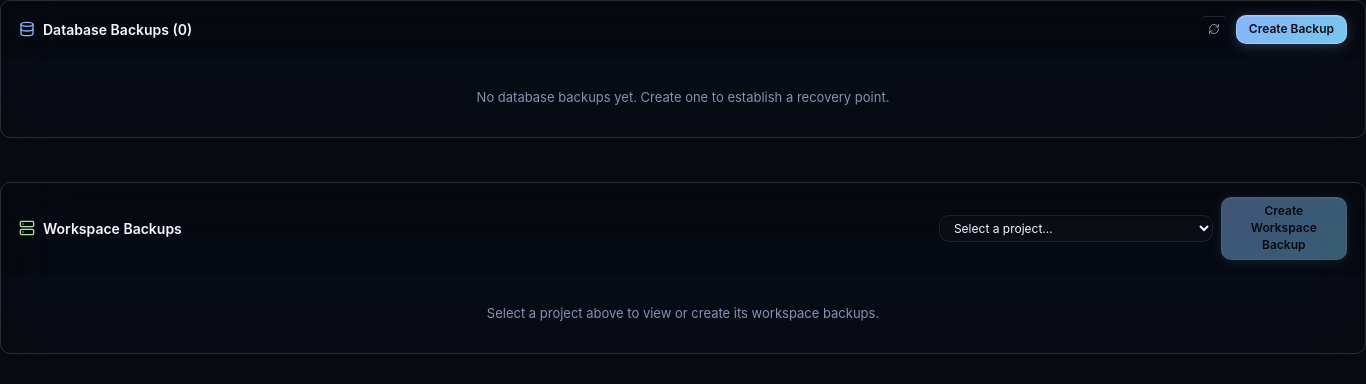
Test case: AdminBackupsPanel — Milestone 46 › 4. successful create refreshes the list
Check: the text "No database backups yet" is shown, box [477,89,889,105]
Click the button "Create Backup" at x=1291, y=29, box [1236,15,1347,44]
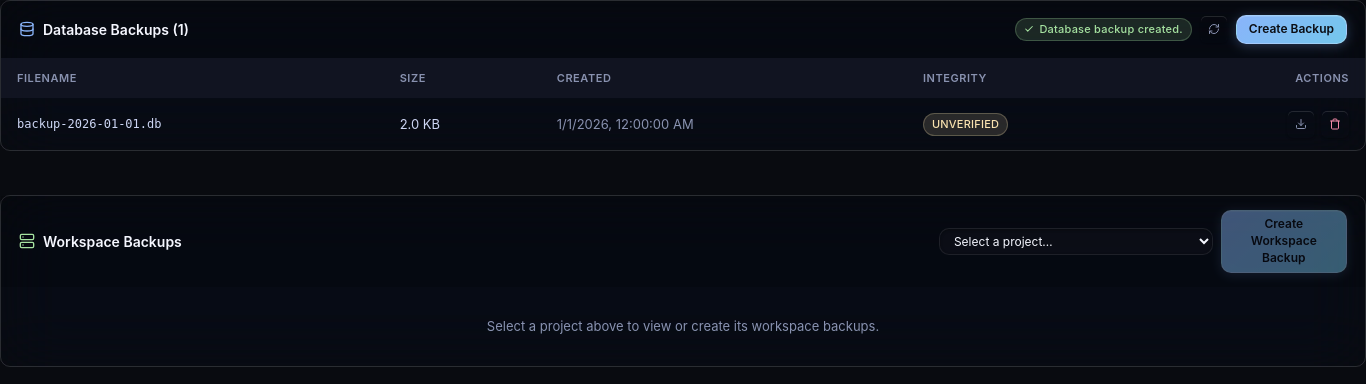
Check: the text "backup-2026-01-01.db" is shown, box [1,98,384,150]
